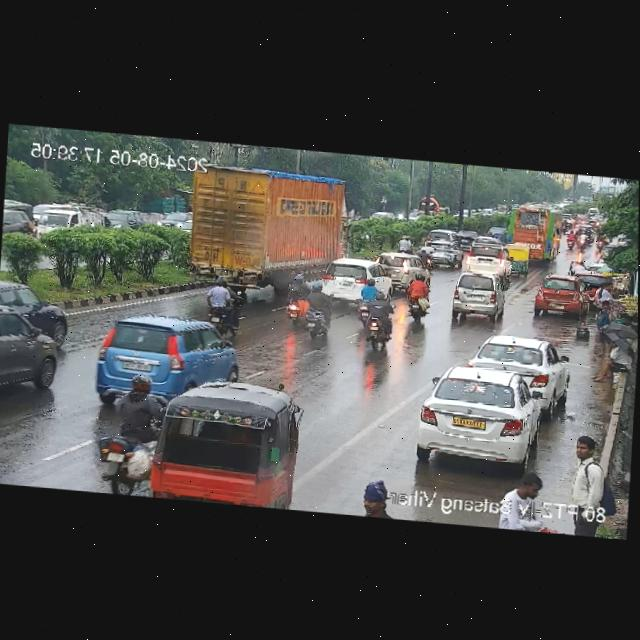bus: (523, 207, 564, 260)
car: (142, 372, 297, 510), (91, 310, 238, 412), (417, 363, 545, 468), (471, 333, 570, 401), (0, 312, 66, 403), (0, 278, 71, 342), (320, 257, 388, 303), (449, 272, 510, 323), (533, 273, 592, 317), (463, 245, 513, 279), (378, 252, 425, 287), (422, 245, 462, 271), (508, 245, 528, 273), (471, 237, 505, 250), (457, 228, 477, 240)
motorcycle: (95, 371, 170, 446), (353, 278, 389, 348), (203, 276, 243, 333), (565, 209, 616, 251), (301, 278, 336, 338), (282, 268, 312, 320), (403, 272, 431, 321)
person: (566, 432, 611, 495), (592, 338, 632, 387), (354, 476, 392, 512), (512, 467, 550, 501), (590, 281, 617, 322), (597, 299, 612, 338)
truck: (172, 154, 344, 302), (33, 199, 106, 240)
